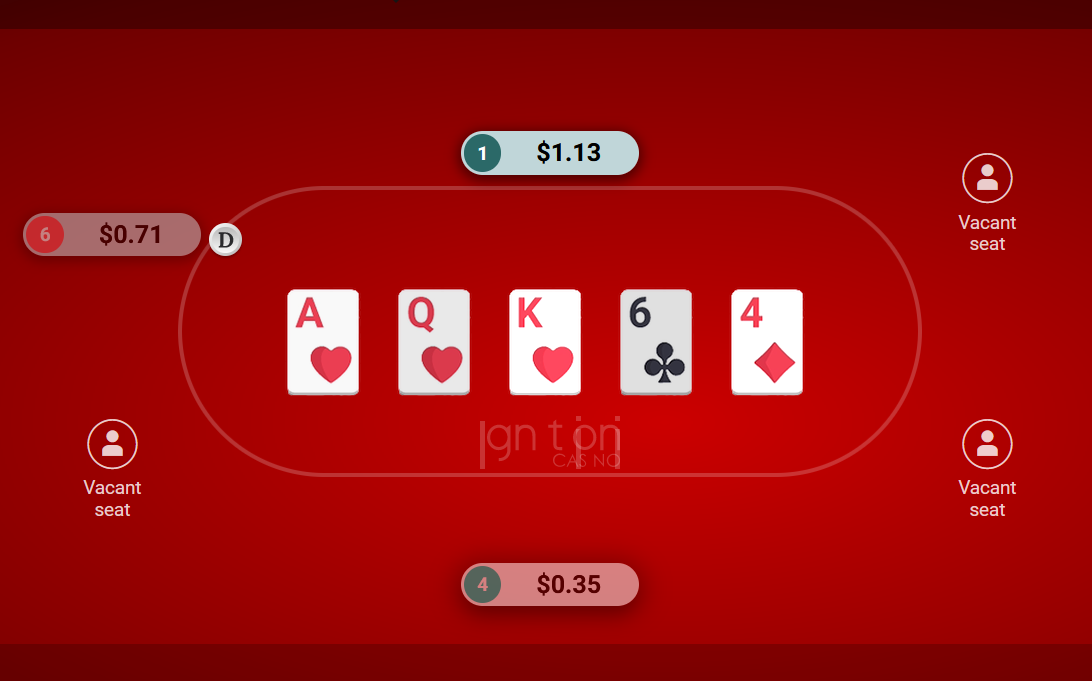4D: (727, 285, 808, 396)
6C: (616, 285, 697, 396)
AH: (283, 285, 364, 396)
KH: (505, 285, 586, 396)
QH: (394, 285, 475, 396)
